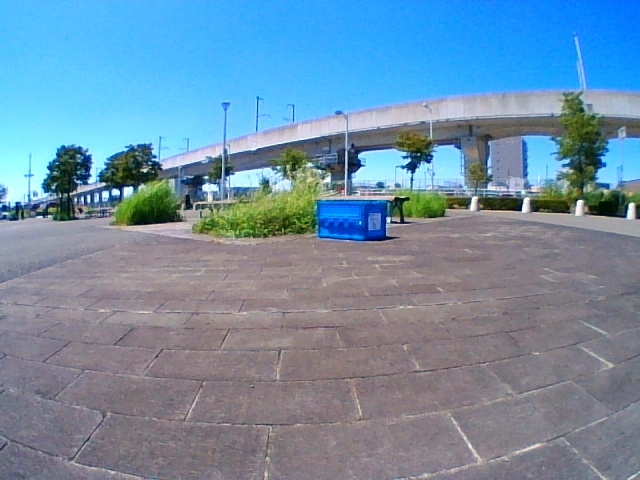blue_box: (318, 201, 386, 239)
tag: (368, 214, 380, 230)
